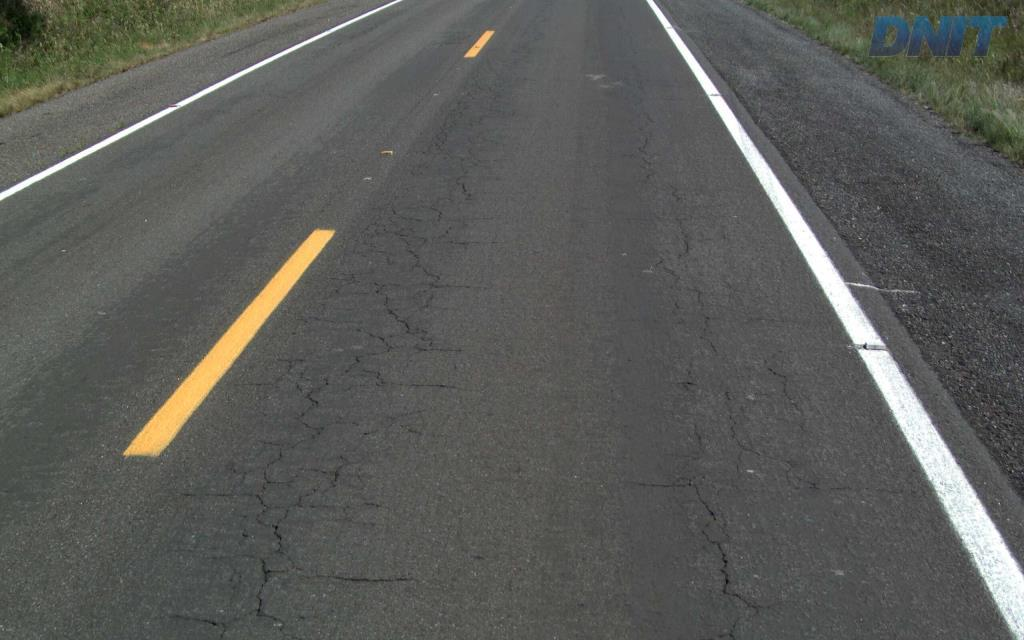crack: (701, 529, 763, 614), (241, 467, 294, 557), (248, 556, 288, 631)
